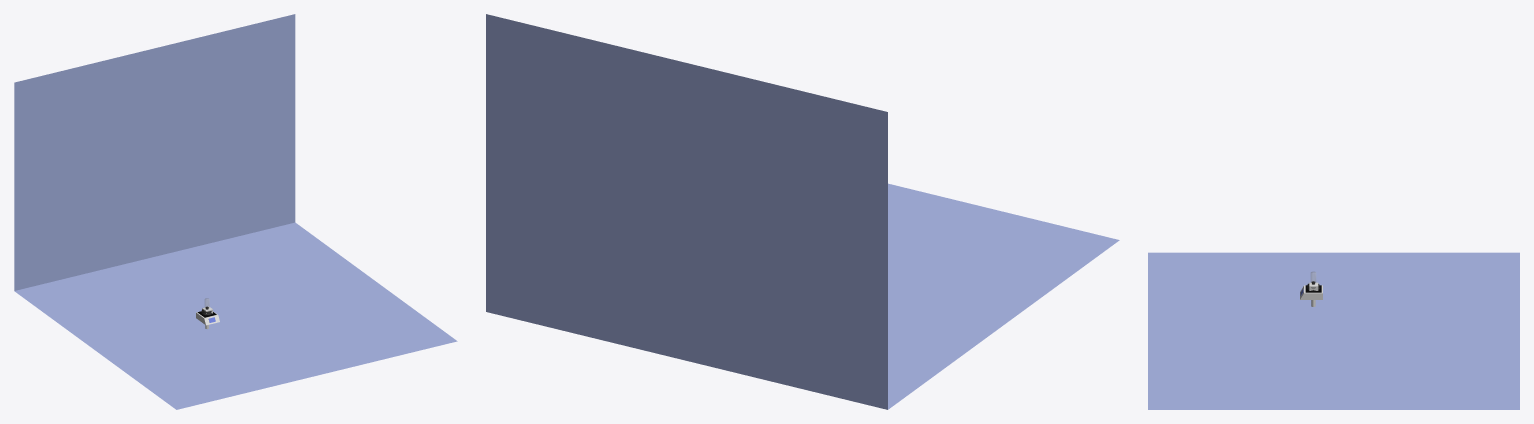
The picture shows the model from 3 angles, left to right: view 1: azimuth 30°, elevation 25°; view 2: azimuth 150°, elevation 25°; view 3: azimuth 270°, elevation 25°; orthographic projection. The views are drawn at different scales.
Parts seen in each view (by area): view 1: Plane; view 2: Plane; view 3: Plane.
Part boxes in pixels (x1,y1,x2,y2): Plane: (14,14,457,409); Plane: (486,14,1119,409); Plane: (1148,252,1519,409).
Bounding box in the file's own units: 8362 × 5924 × 8362.
